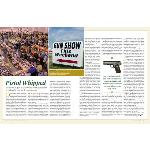Pistol: (103, 60, 121, 74)
